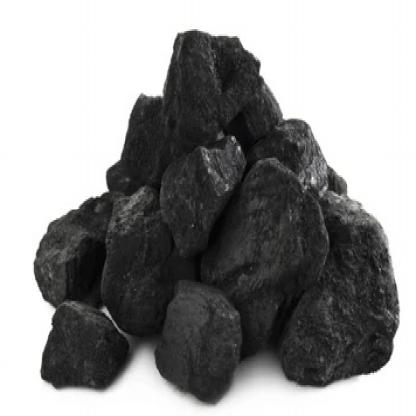Sedimentary_coal: (158, 16, 308, 170), (218, 155, 330, 349), (155, 272, 241, 397), (32, 289, 128, 399)
